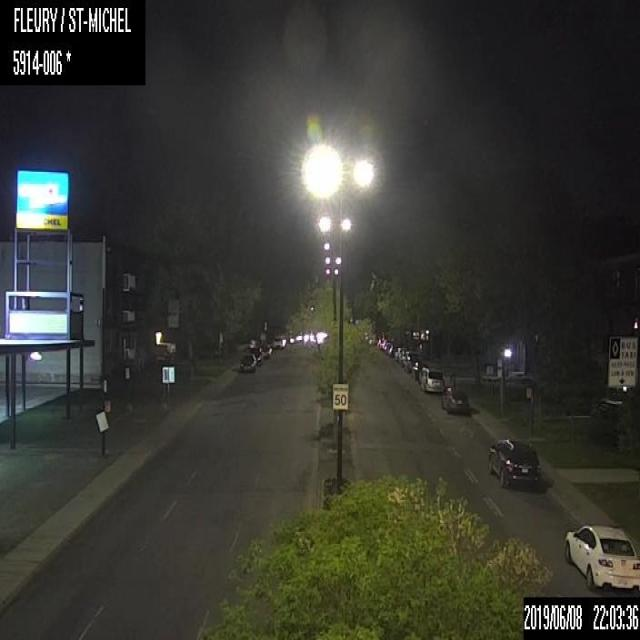vehicle: (562, 522, 639, 594), (485, 434, 539, 486), (440, 387, 472, 416), (418, 364, 444, 393), (238, 350, 255, 372), (248, 346, 262, 365), (411, 360, 423, 378), (272, 333, 286, 347)
